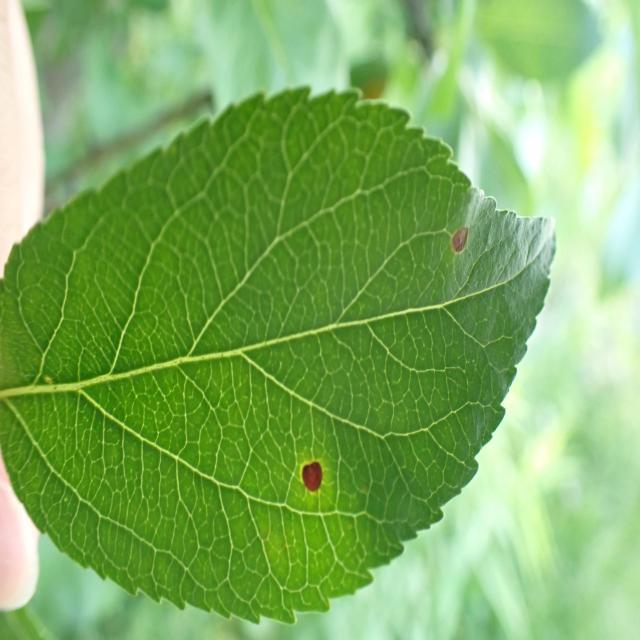Black Rot: (419, 216, 488, 261), (292, 447, 328, 513)
